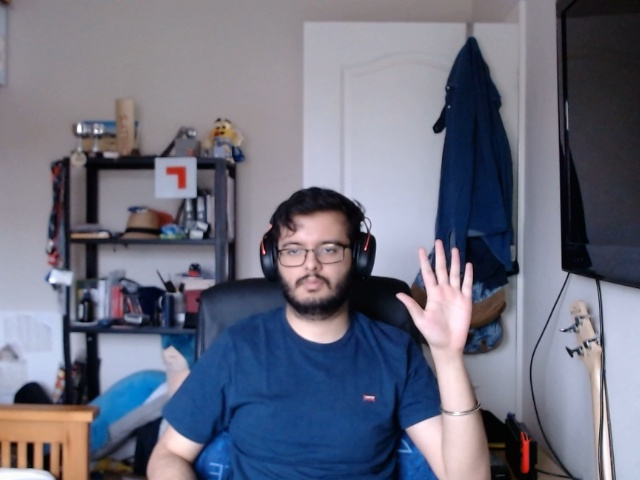Hello: (393, 233, 492, 352)
